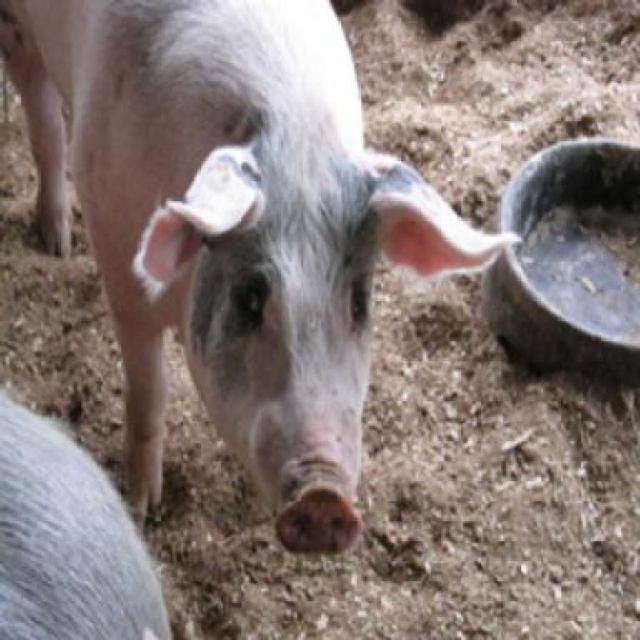pig: (0, 0, 520, 558), (0, 396, 174, 638)
